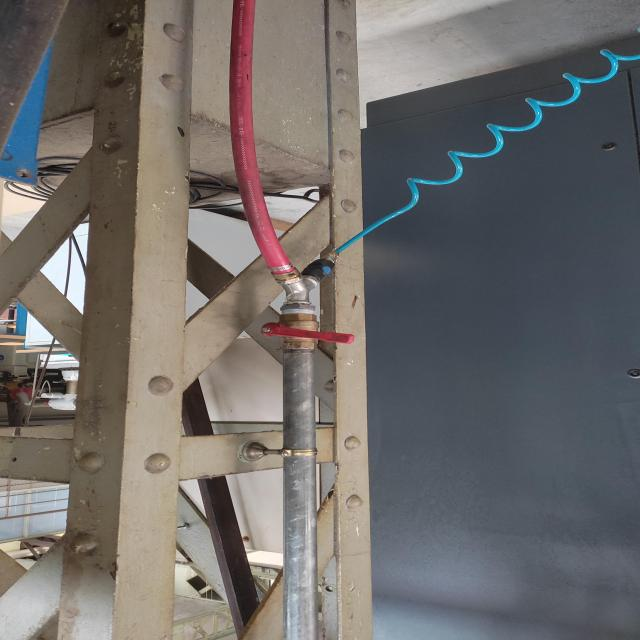closed_valve: (258, 311, 361, 350)
